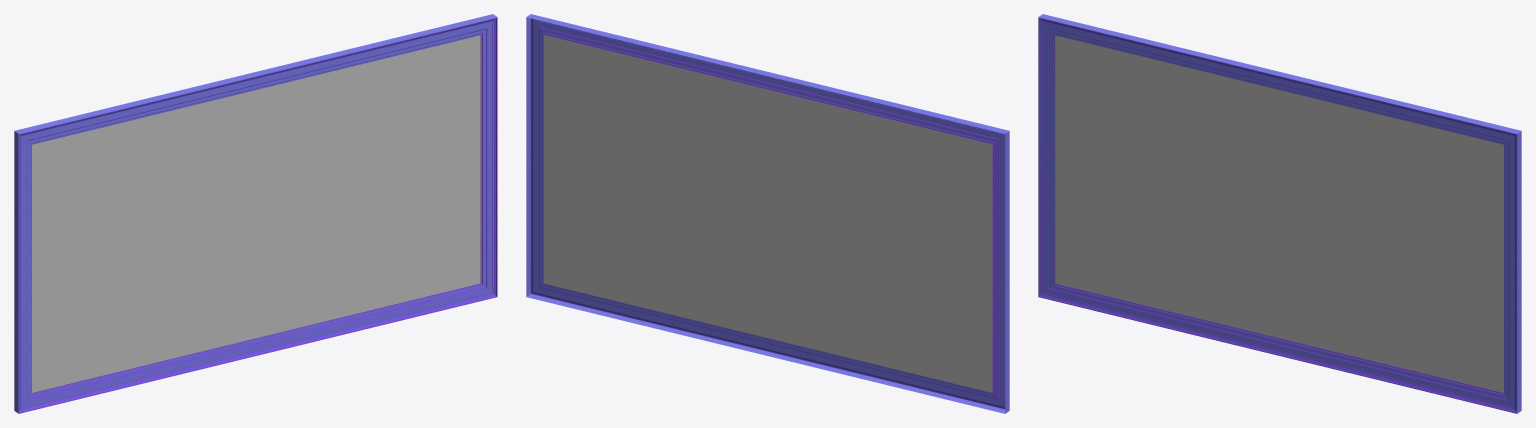
The picture shows the model from 3 angles, left to right: view 1: azimuth 30°, elevation 25°; view 2: azimuth 150°, elevation 25°; view 3: azimuth 330°, elevation 25°; orthographic projection.
Parts seen in each view (by area): view 1: _09_15, _09_15_frame; view 2: _09_15, _09_15_frame; view 3: _09_15, _09_15_frame.
Boxes of the visible parts, x1=… form: _09_15: x1=32, y1=35, x2=480, y2=392; _09_15_frame: x1=14, y1=14, x2=497, y2=413; _09_15: x1=543, y1=35, x2=992, y2=392; _09_15_frame: x1=526, y1=14, x2=1009, y2=413; _09_15: x1=1055, y1=35, x2=1503, y2=392; _09_15_frame: x1=1038, y1=14, x2=1521, y2=413.
Bounding box in the file's own units: 480 × 268 × 7.83.
